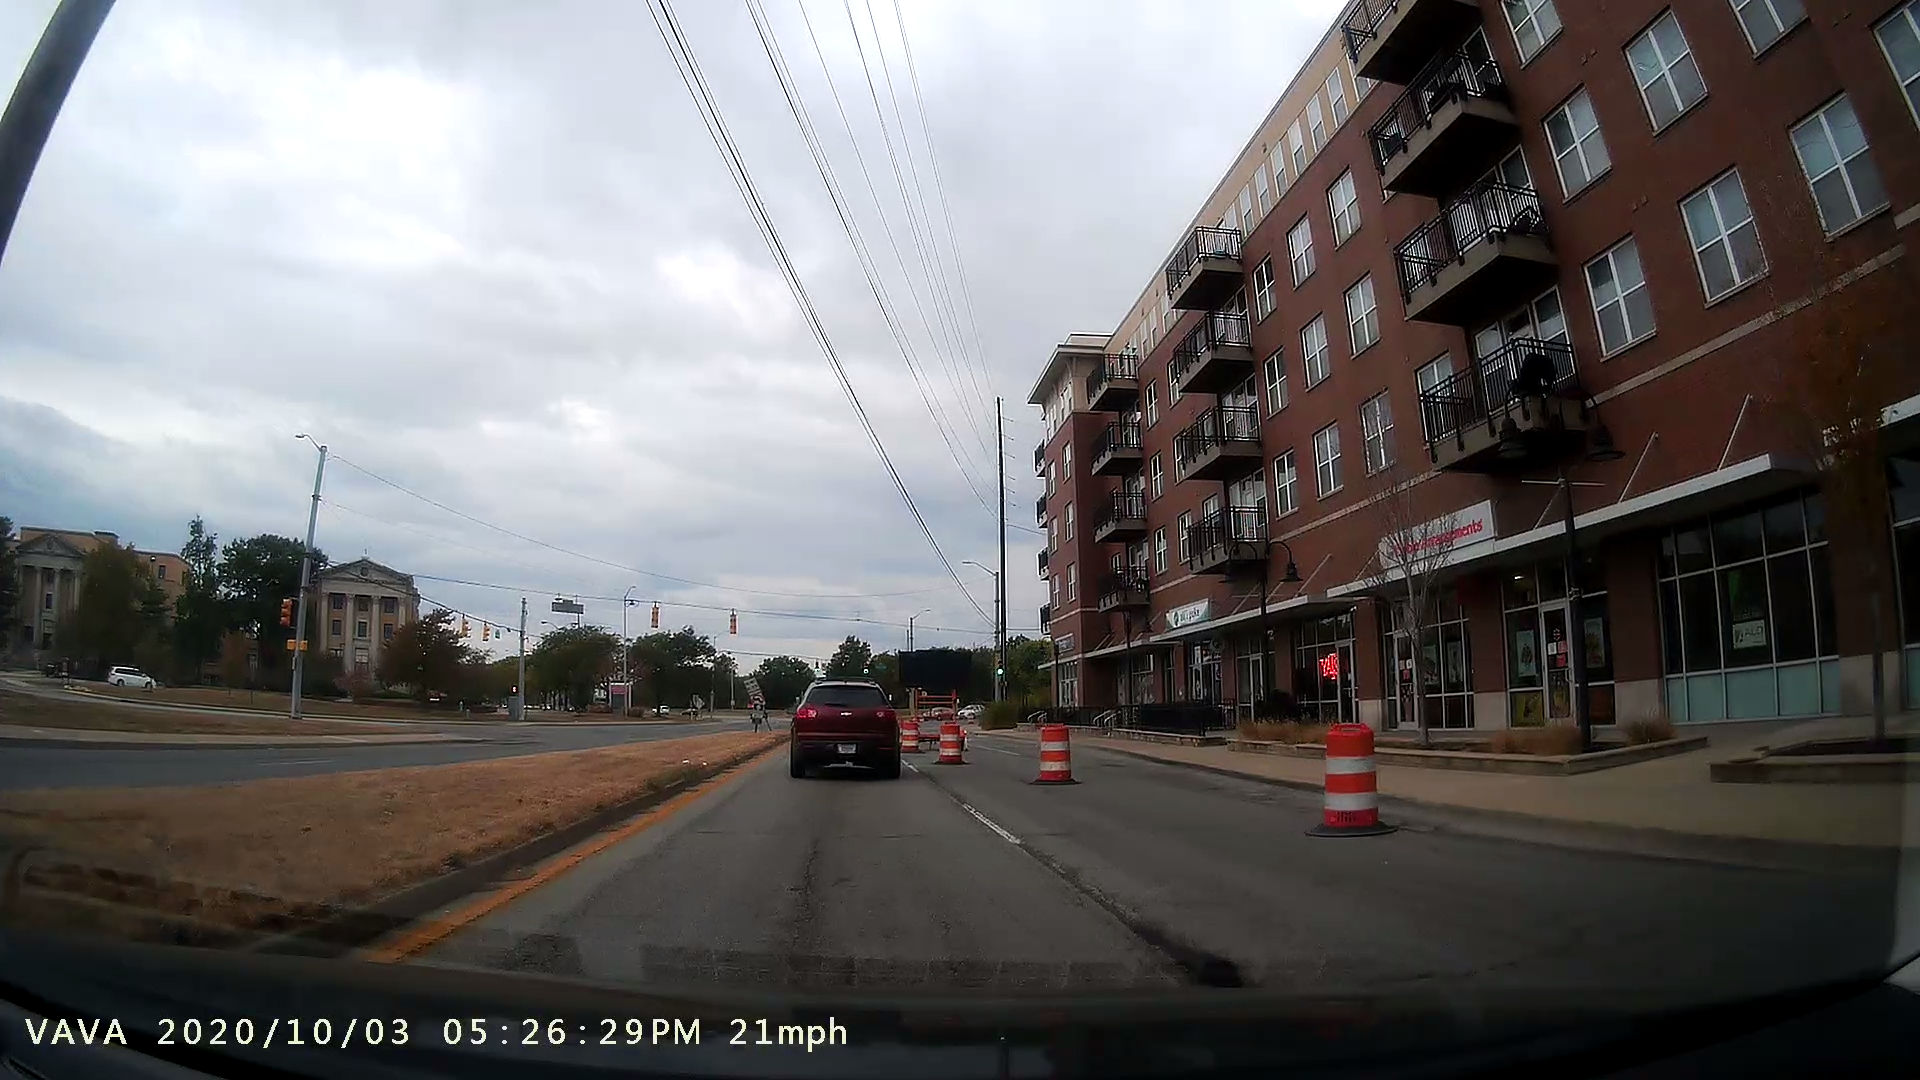const_barrel: (1299, 713, 1414, 845), (1025, 717, 1087, 790), (931, 719, 976, 767)
